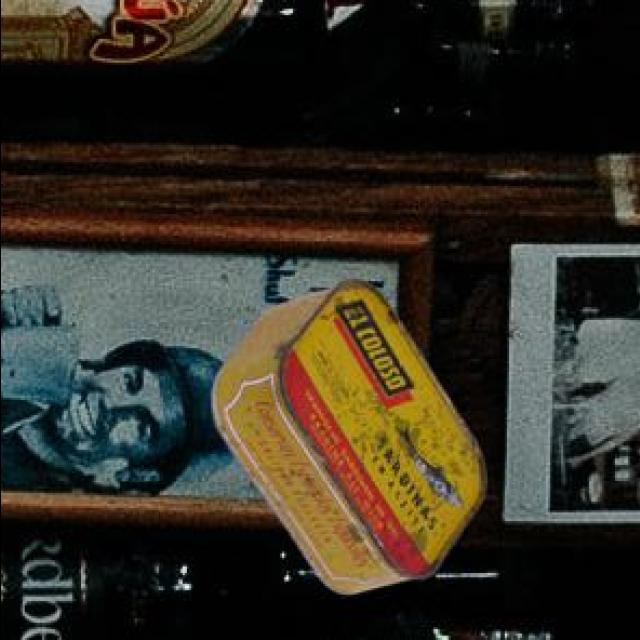logam: (213, 276, 488, 591)
